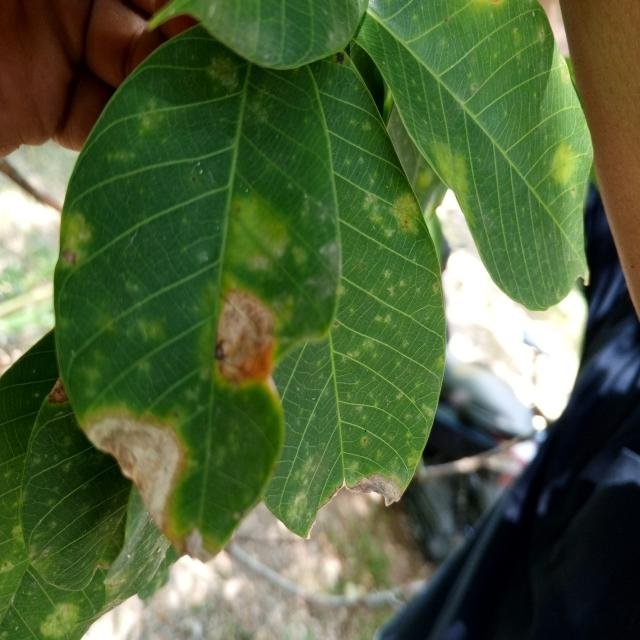Leaf-Blight: (84, 411, 185, 535), (215, 289, 274, 386), (175, 526, 217, 564), (48, 378, 68, 403)
